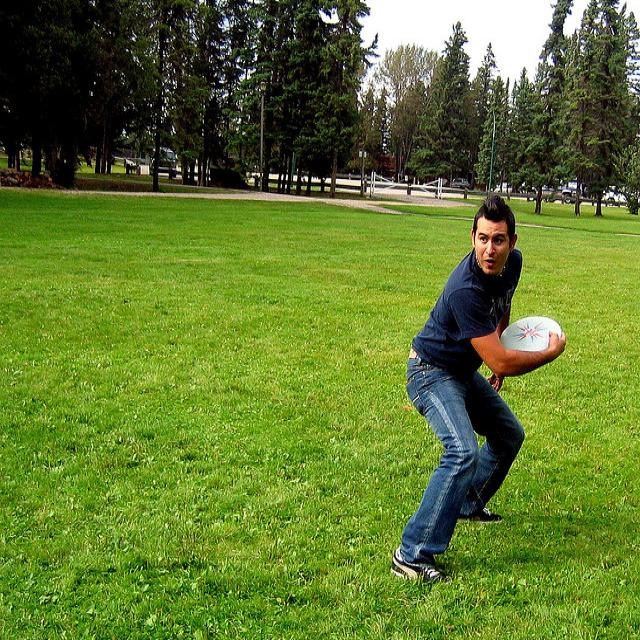Vehicle: (556, 185, 577, 204), (491, 183, 512, 195), (451, 178, 471, 190)
